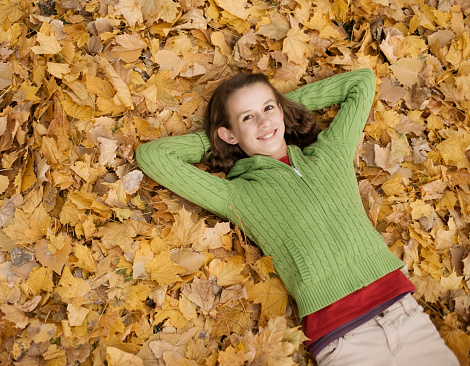deitado: (168, 57, 383, 343)
